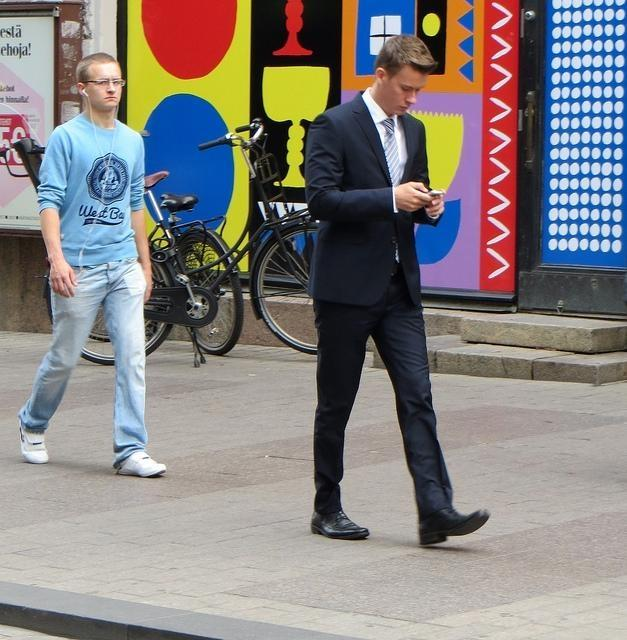bicycle: (40, 122, 322, 365), (161, 191, 245, 356)
